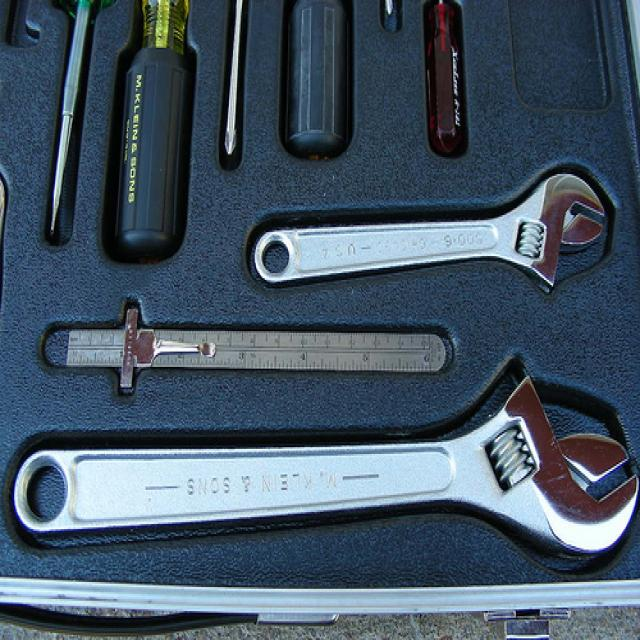wrench: (6, 370, 640, 586), (254, 160, 623, 293)
